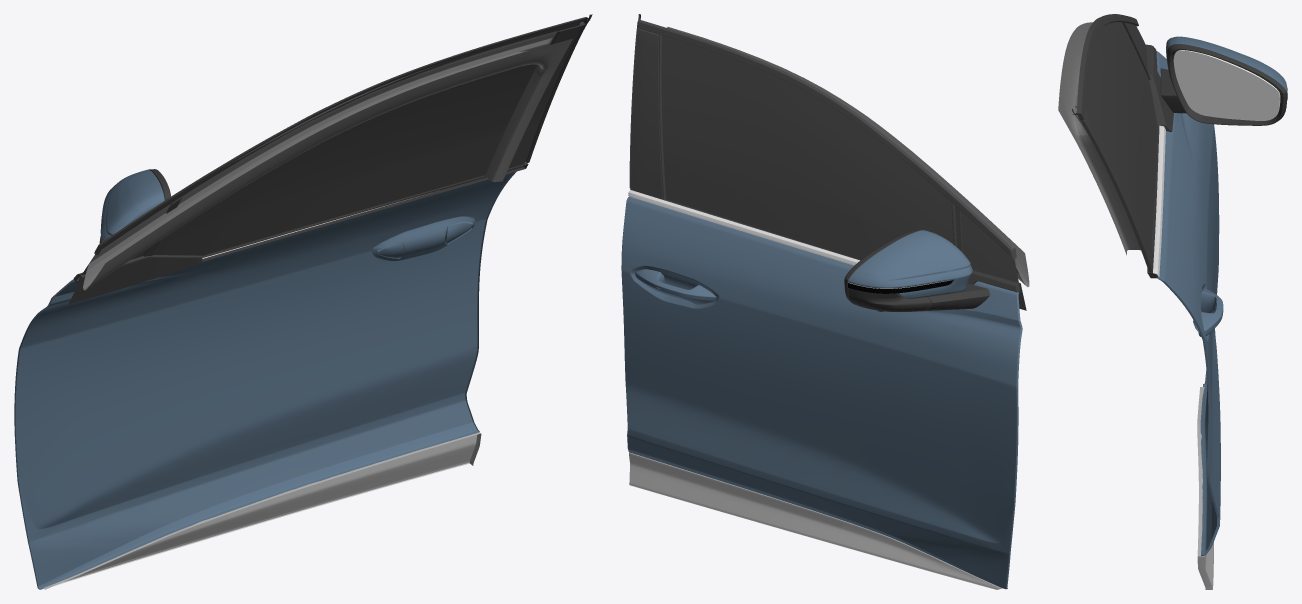
Rendered from yqcm.glb.
The picture shows the model from 3 angles, left to right: view 1: azimuth 30°, elevation 25°; view 2: azimuth 150°, elevation 25°; view 3: azimuth 270°, elevation 25°; orthographic projection. The views are drawn at different scales.
Visible parts, largest first — view 1: polySurface288; view 2: polySurface288; view 3: polySurface288.
Part boxes in pixels (left/top/right/bottom): polySurface288: left=14, top=14, right=592, bottom=589; polySurface288: left=621, top=14, right=1029, bottom=589; polySurface288: left=1058, top=14, right=1287, bottom=589.
Bounding box in the file's own units: 1.25 × 1.18 × 0.4655.
